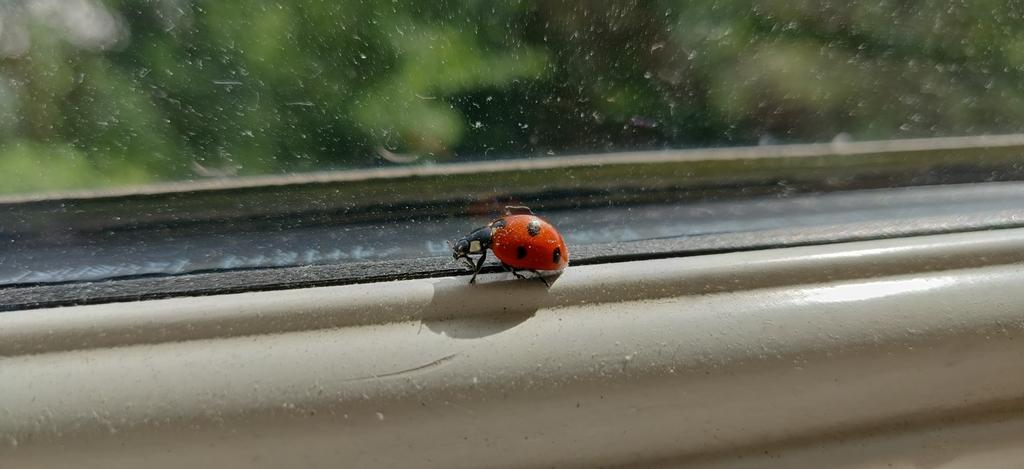ladybug: (451, 215, 572, 289)
